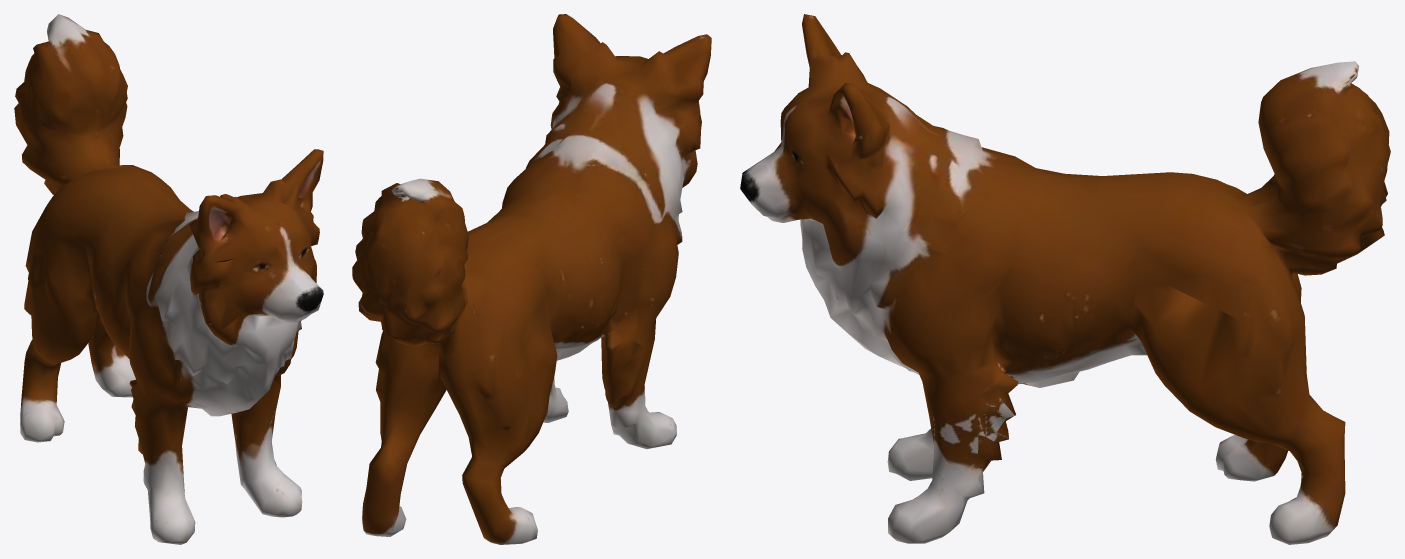
Rendered from detail_4_lo2.glb.
3 views of the same model, side by side, from view 1: azimuth 30°, elevation 25°; view 2: azimuth 150°, elevation 25°; view 3: azimuth 270°, elevation 25° (orthographic). The views are drawn at different scales.
Visible parts, largest first — view 1: Mesh_0.001; view 2: Mesh_0.001; view 3: Mesh_0.001.
Part boxes in pixels (x1,y1,x2,y2): Mesh_0.001: (14, 14, 323, 544); Mesh_0.001: (352, 14, 711, 544); Mesh_0.001: (740, 14, 1390, 544).
Bounding box in the file's own units: 0.3414 × 0.7747 × 0.9994.
Materials: 1 (1 with a texture image).
